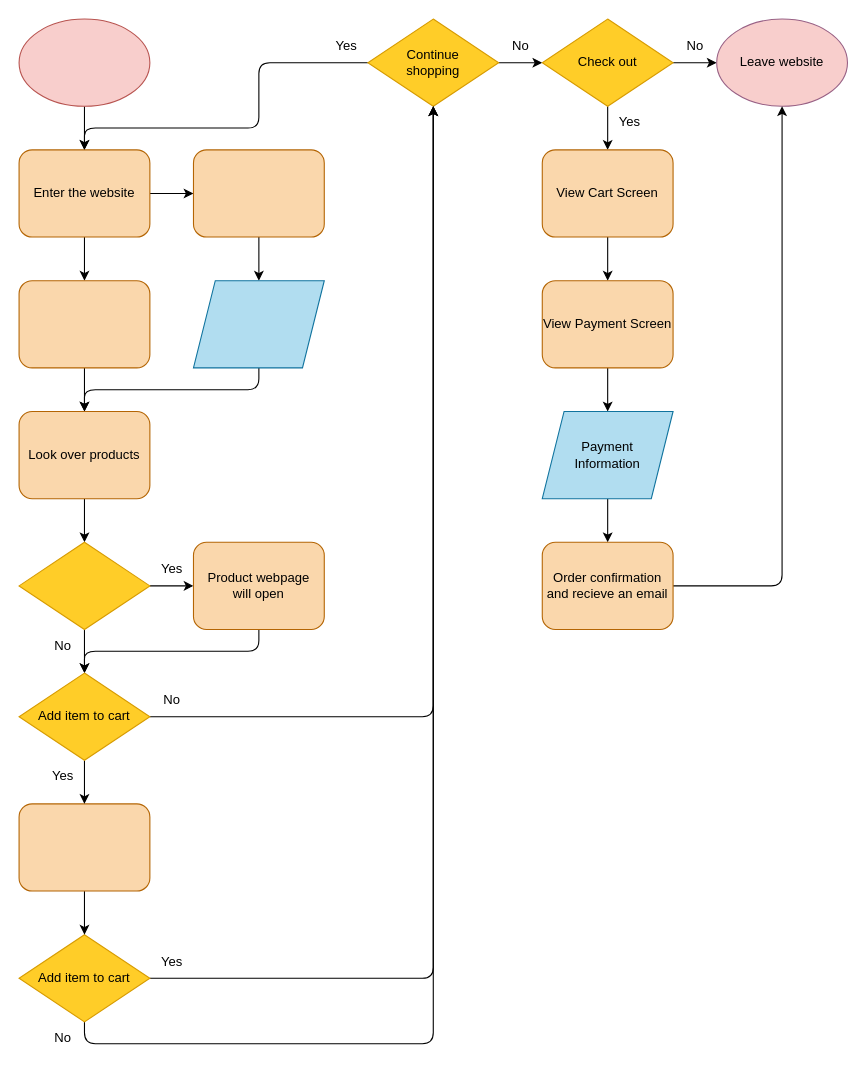
The diagram is 867 pixels wide and 1074 high, and some of its shapes have lost their labels. Here are the shapes that lost their labels. From the top down, the centre of each, then its label:
At point (84, 62): "Start".
At point (258, 193): "Searching for a product".
At point (84, 324): "Explore the products on the home page".
At point (258, 324): "Product to search for".
At point (84, 585): "View a specific product".
At point (84, 847): "Add to cart confirmation".
